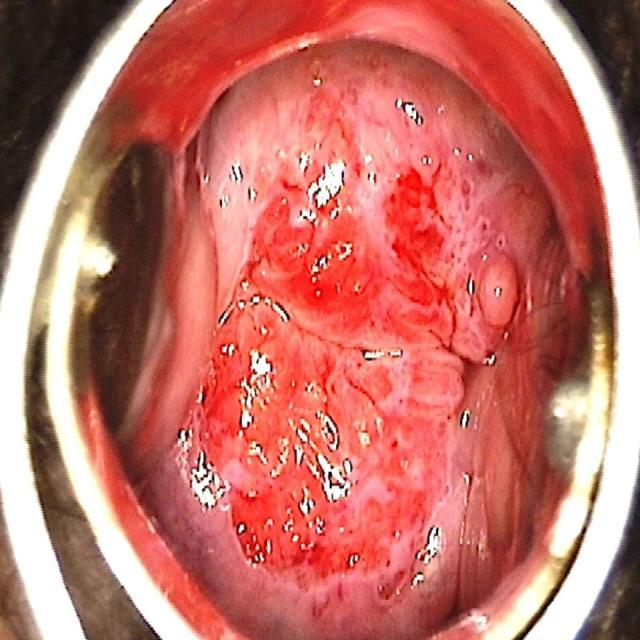cervical_lesion: (163, 87, 539, 622)
